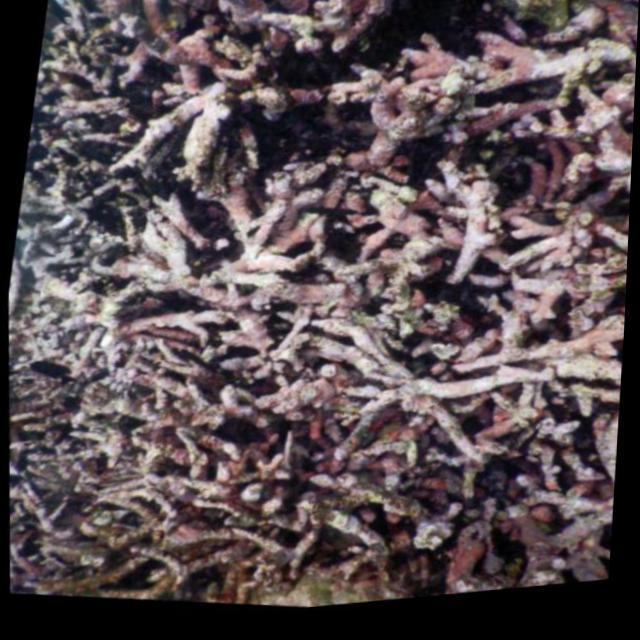Dead Coral: (43, 8, 632, 590)
